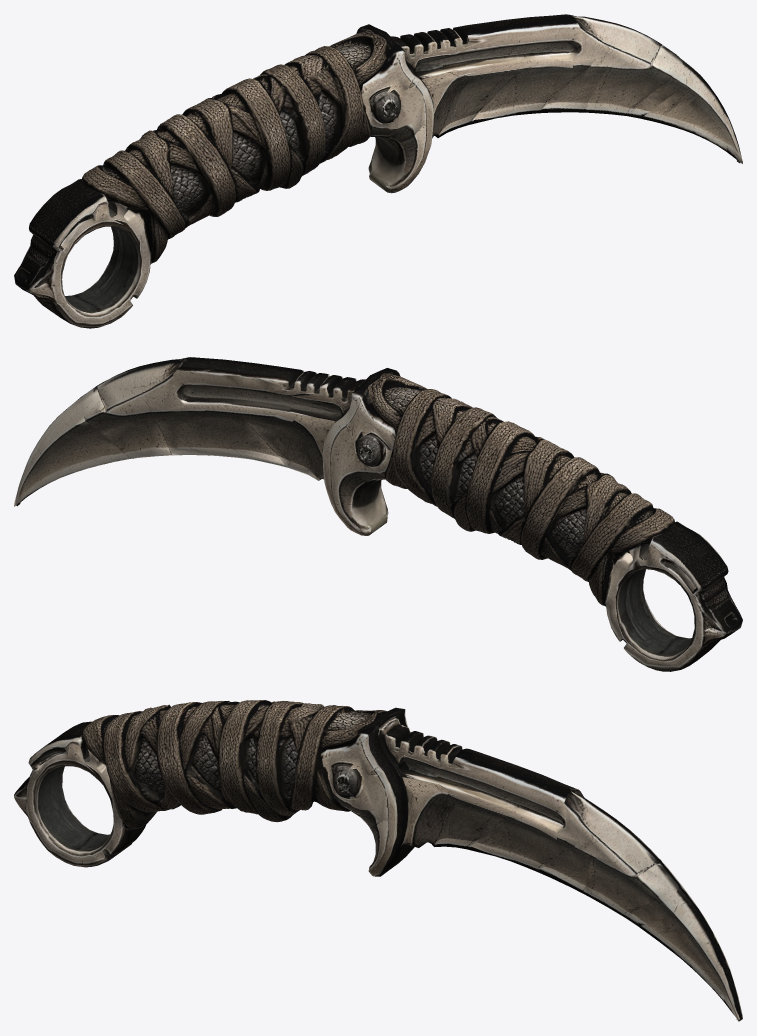
File: karambit.glb
3 renders of one model, top to bottom at view 1: azimuth 30°, elevation 25°; view 2: azimuth 150°, elevation 25°; view 3: azimuth 330°, elevation 25°, orthographic.
Parts seen in each view (by area): view 1: tripo_node_84c1e881-9e6b-4aa4-ac9c-02a543b534b4; view 2: tripo_node_84c1e881-9e6b-4aa4-ac9c-02a543b534b4; view 3: tripo_node_84c1e881-9e6b-4aa4-ac9c-02a543b534b4.
Part boxes in pixels (x1=…): tripo_node_84c1e881-9e6b-4aa4-ac9c-02a543b534b4: x1=14, y1=14, x2=742, y2=328; tripo_node_84c1e881-9e6b-4aa4-ac9c-02a543b534b4: x1=14, y1=357, x2=742, y2=671; tripo_node_84c1e881-9e6b-4aa4-ac9c-02a543b534b4: x1=14, y1=700, x2=742, y2=1021.
Size of the model in its own units: 0.9813 by 0.2818 by 0.1238.
Materials: 1 (1 with a texture image).
